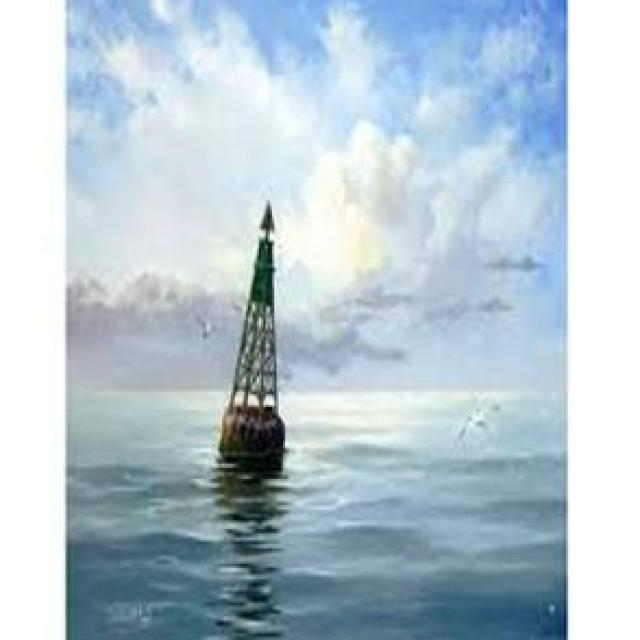buoy: (205, 194, 301, 468)
